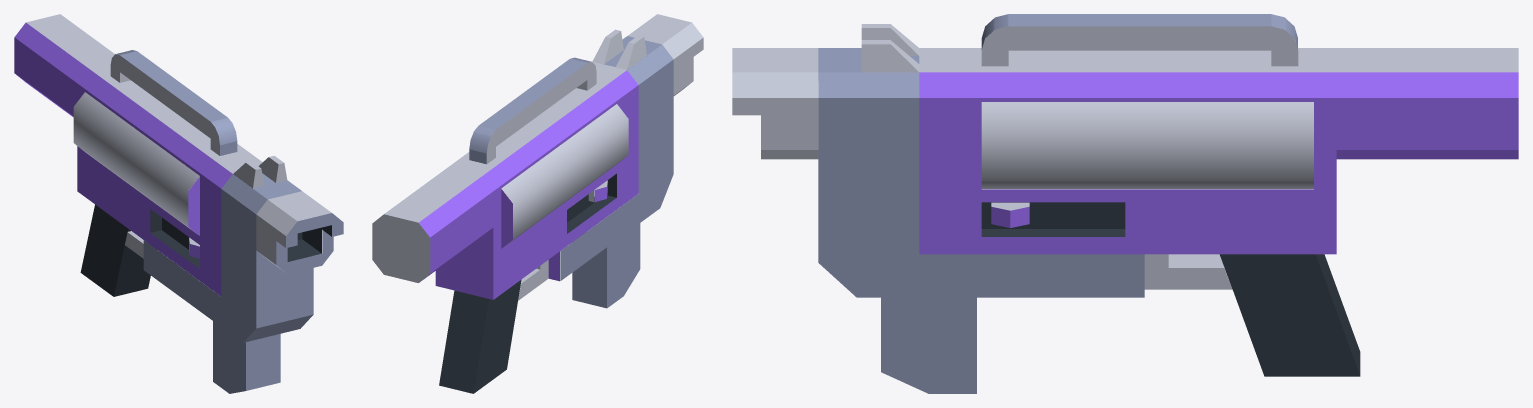
Rendered from blasterA.glb.
3 views of the same model, side by side, from view 1: azimuth 30°, elevation 25°; view 2: azimuth 150°, elevation 25°; view 3: azimuth 270°, elevation 25° (orthographic). The views are drawn at different scales.
Parts seen in each view (by area): view 1: blasterA; view 2: blasterA; view 3: blasterA.
Boxes of the visible parts, left/top/right/bottom form: blasterA: left=14, top=14, right=343, bottom=393; blasterA: left=372, top=14, right=703, bottom=393; blasterA: left=732, top=14, right=1518, bottom=393.
Bounding box in the file's own units: 0.1401 × 0.416 × 0.82.
